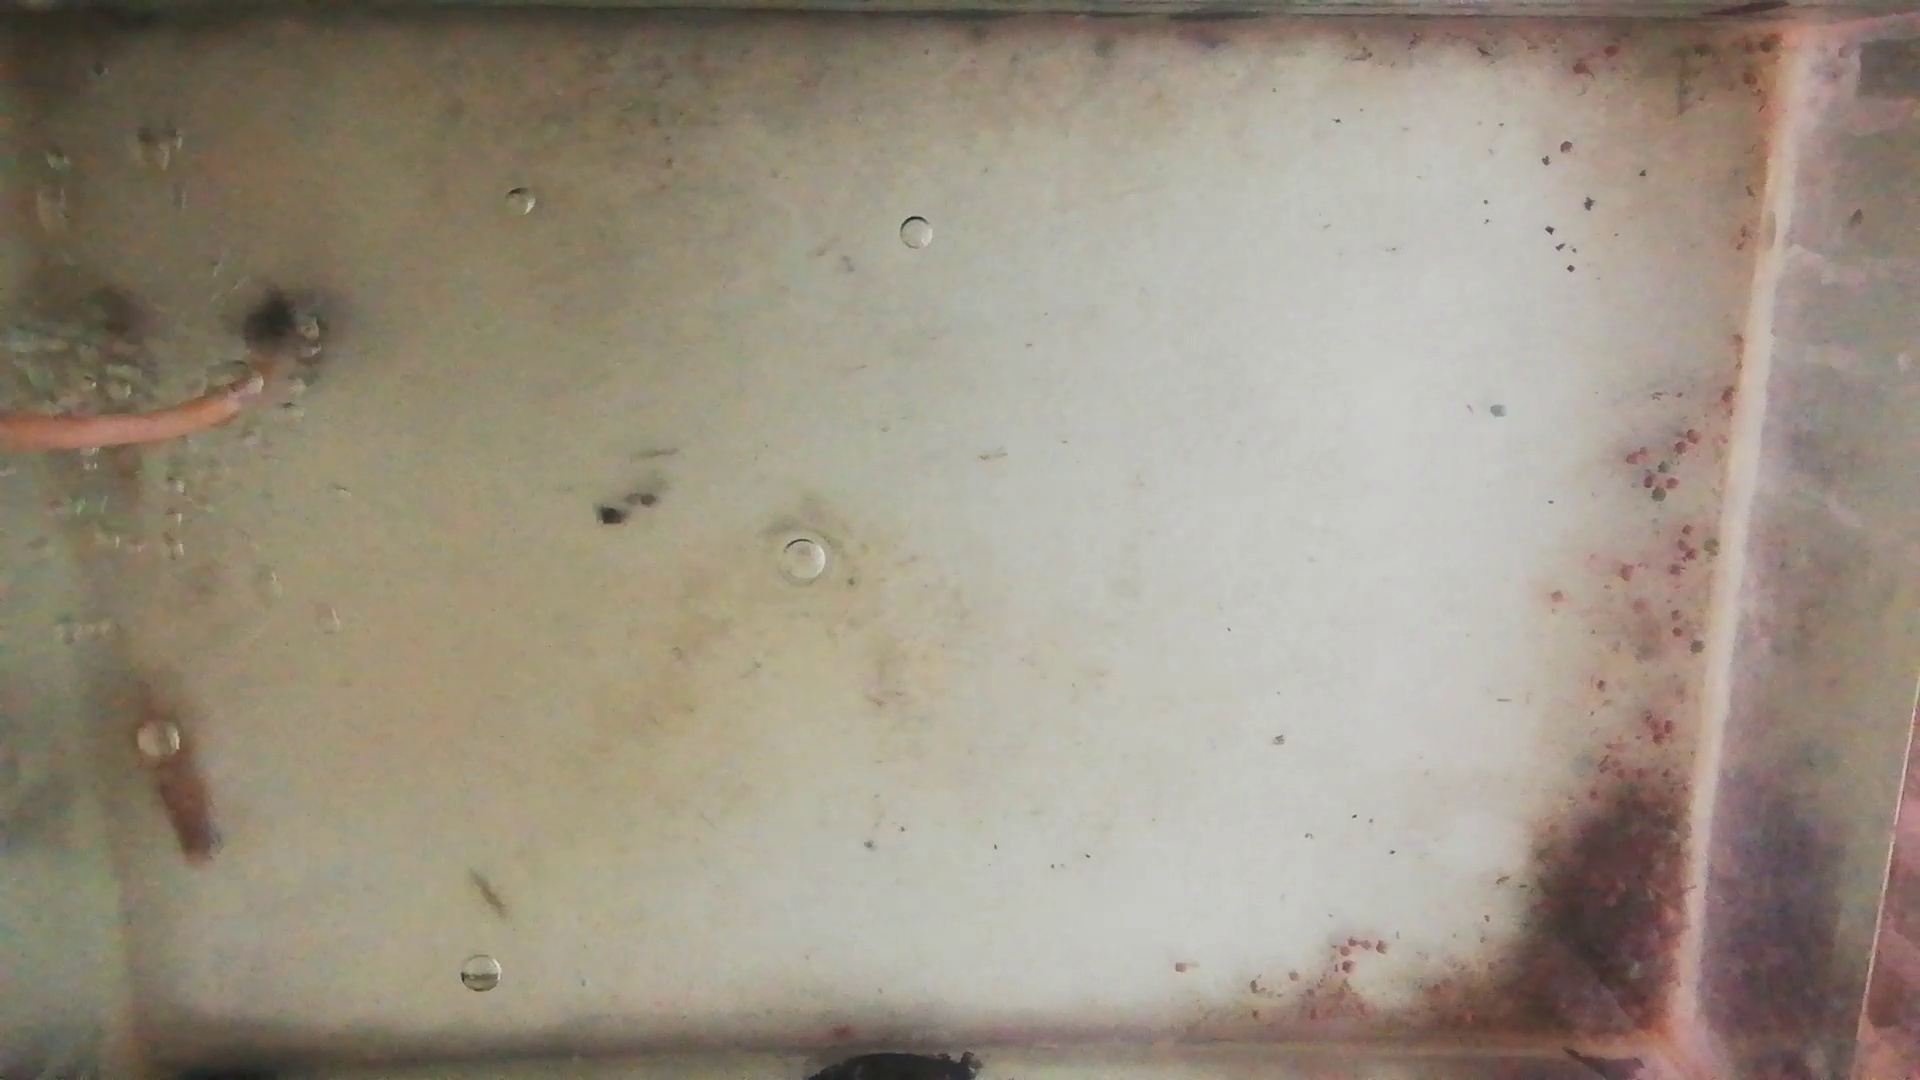fish: (132, 683, 231, 866), (91, 293, 149, 483)
